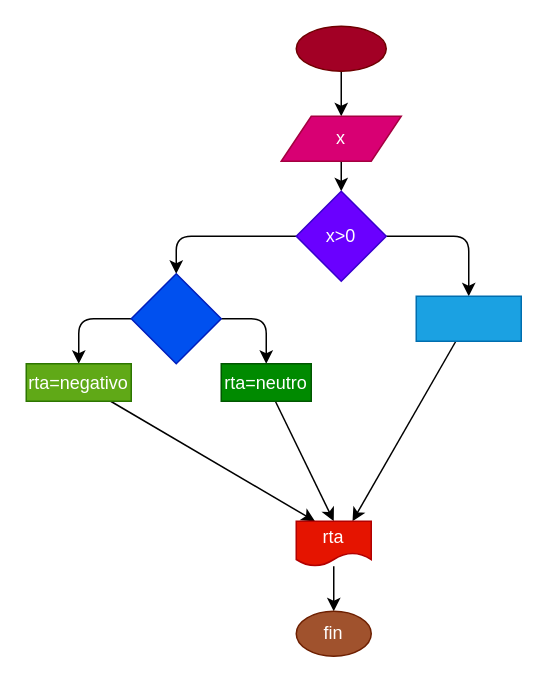
Image size: 548x683. Some labels were removed from this diagram. Each missing label, with the centre of its shape:
inicio: pixel 340 48
rta=positivo: pixel 468 318
x==o: pixel 175 318
